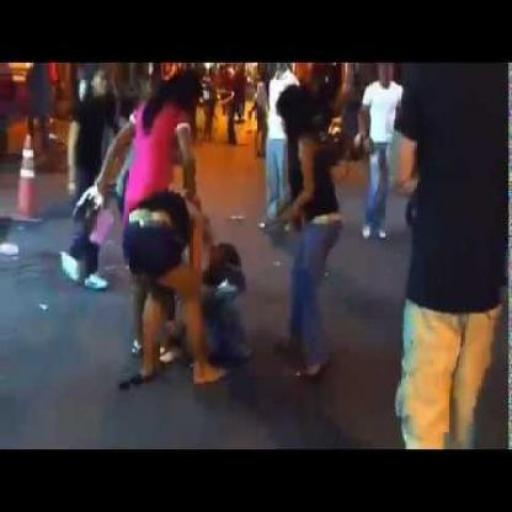Fighting: (73, 56, 266, 389)
